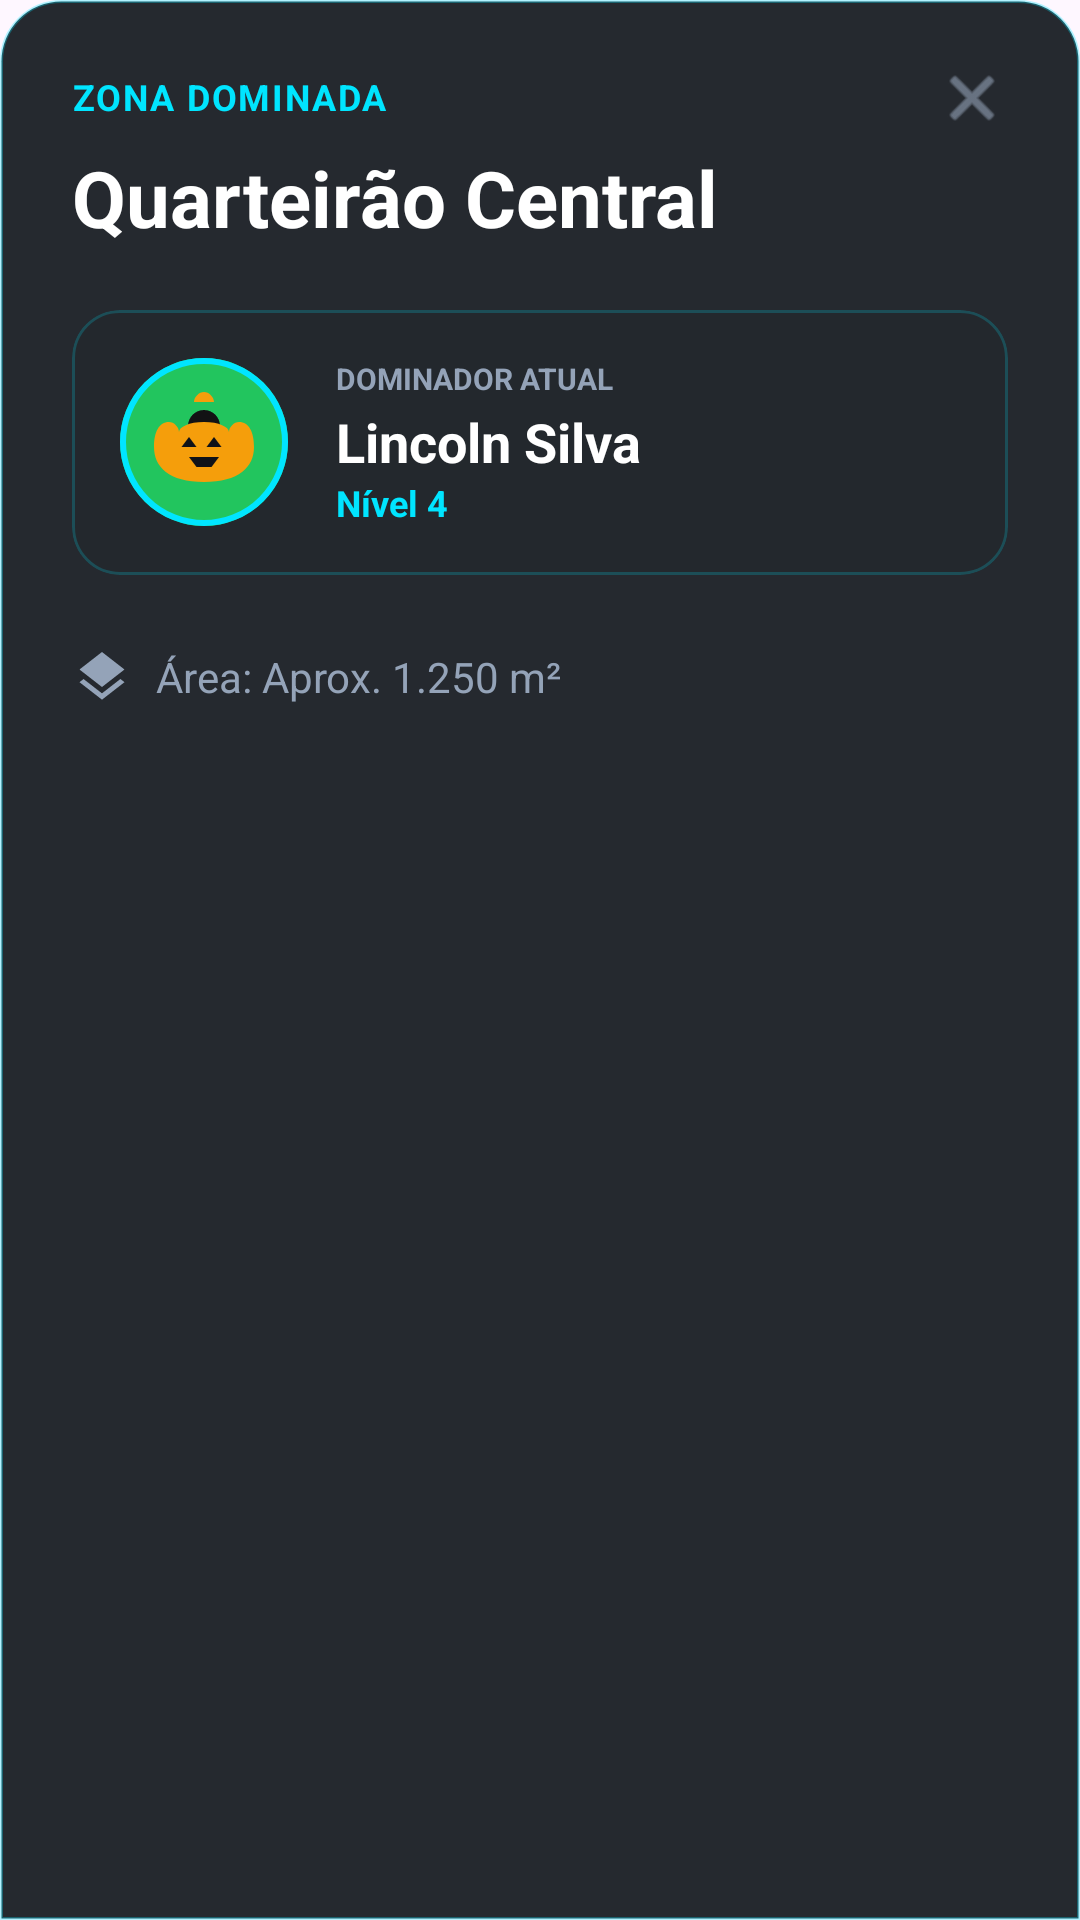

Icons on this 1080x1920 Android screen, each with the point to tap as [x,y]:
Fechar: [972,98]
layers: [102,676]
